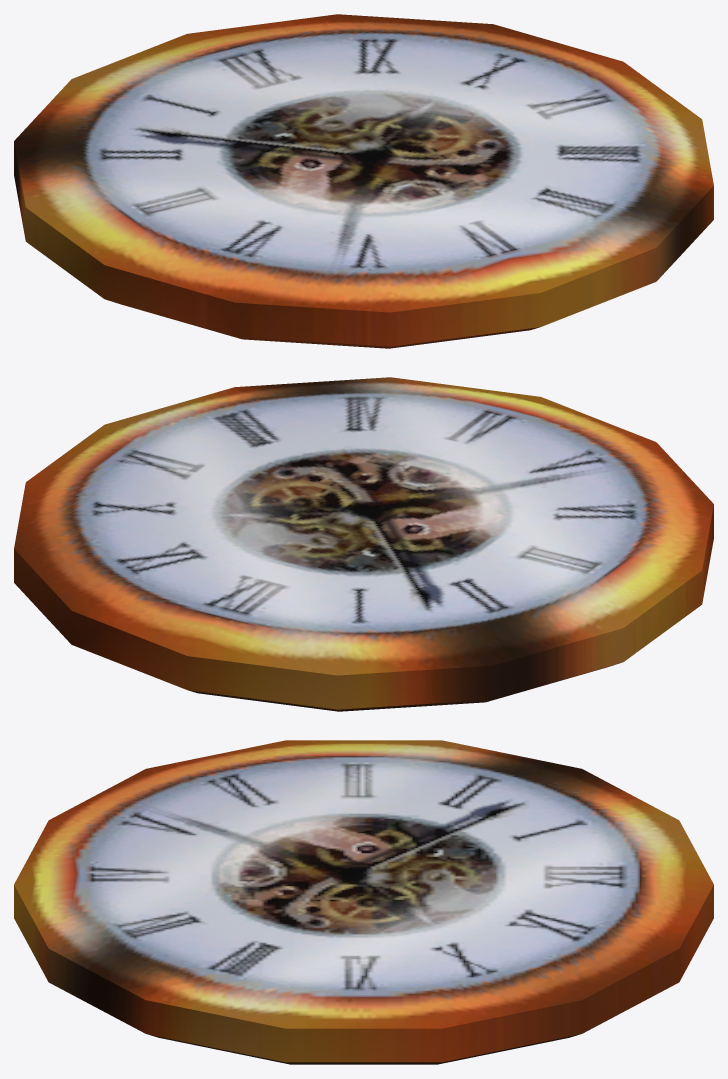
File: Sakuya's Clock.obj
3 views of the same model, one above another, from view 1: azimuth 30°, elevation 25°; view 2: azimuth 150°, elevation 25°; view 3: azimuth 270°, elevation 25° (orthographic).
Parts seen in each view (by area): view 1: Model::Mesh_1; view 2: Model::Mesh_1; view 3: Model::Mesh_1.
Boxes of the visible parts, x1,y1,x2,y2 form: Model::Mesh_1: (14, 14, 713, 348); Model::Mesh_1: (14, 377, 713, 711); Model::Mesh_1: (14, 740, 713, 1064).
Size of the model in its own units: 14.02 by 1.25 by 14.38.
